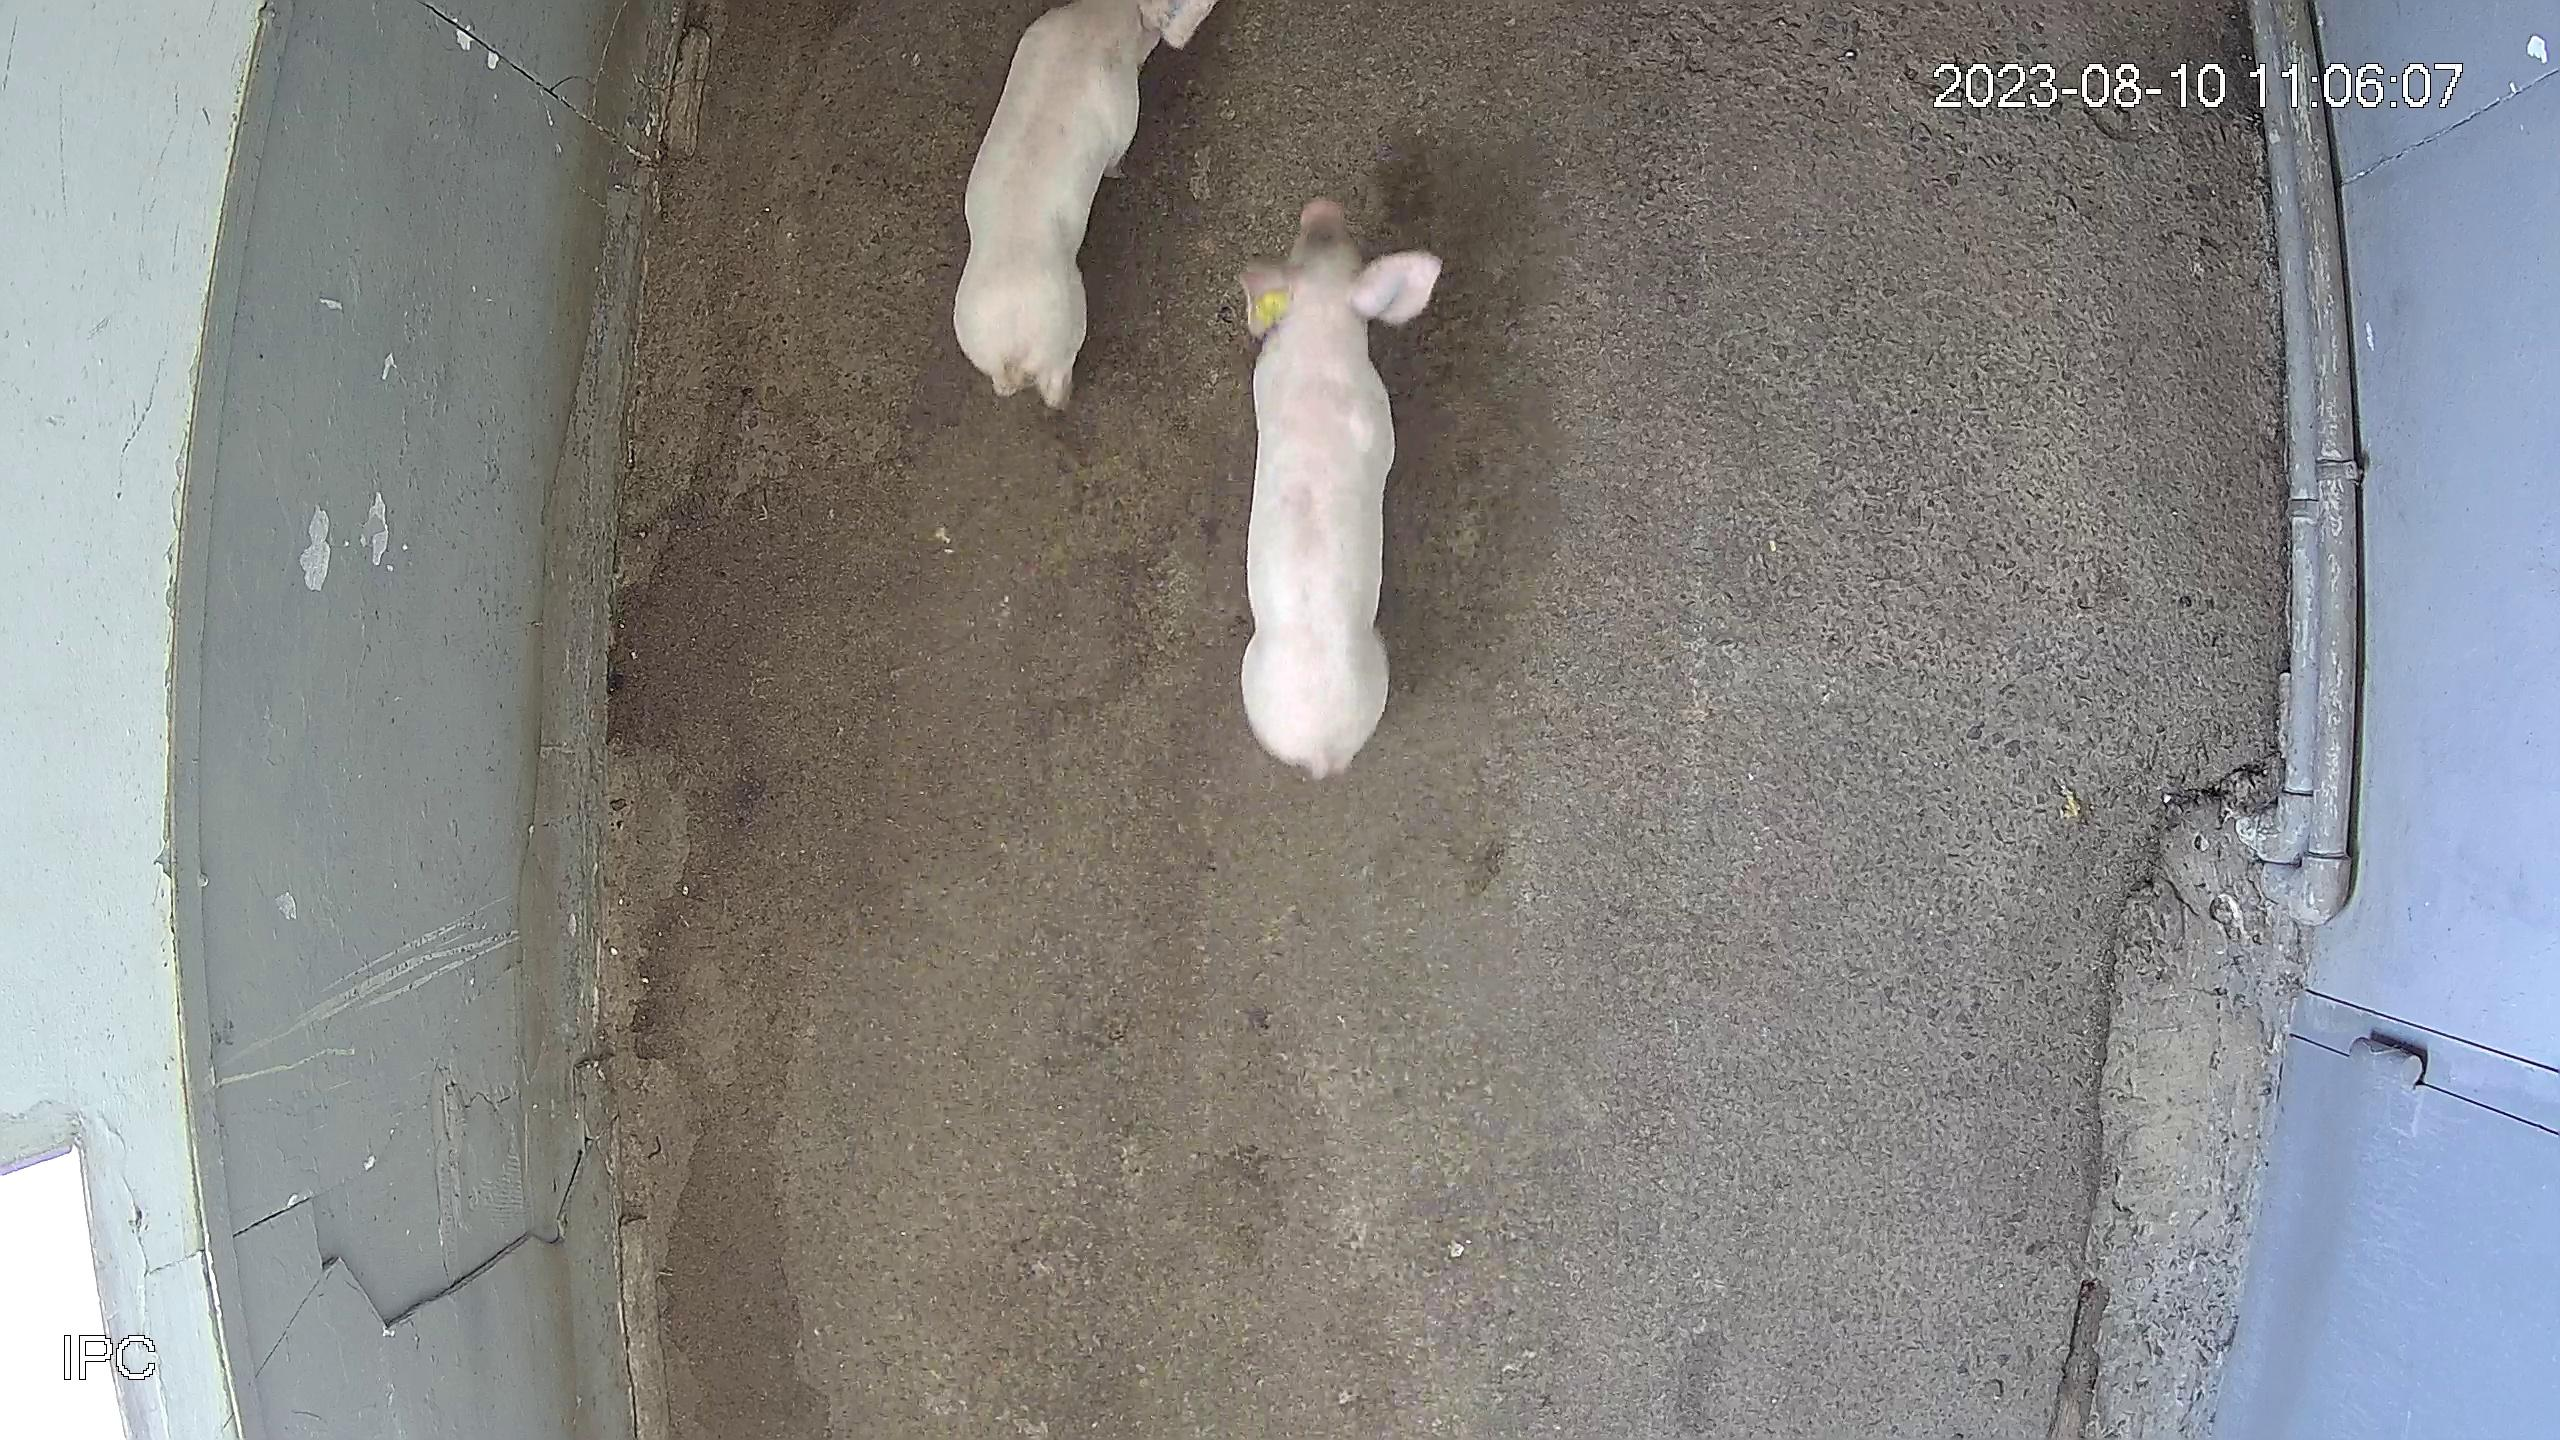Pig: (1241, 195, 1442, 775), (953, 0, 1215, 404)
